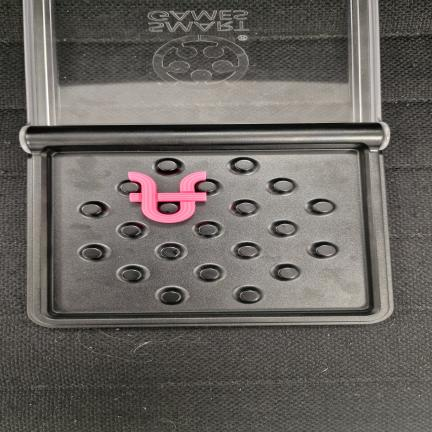G_Pink: (129, 172, 206, 223)
board: (27, 124, 392, 327)
hinge: (23, 127, 386, 152)
pin: (315, 244, 336, 257), (161, 291, 181, 304), (157, 160, 178, 172), (275, 223, 296, 235), (81, 247, 102, 259), (237, 245, 258, 257), (121, 269, 142, 281), (239, 290, 260, 302), (234, 159, 254, 171), (236, 202, 256, 214), (313, 201, 333, 213), (160, 246, 180, 258), (278, 267, 298, 279), (200, 268, 220, 280), (120, 225, 141, 236), (273, 181, 293, 192), (81, 204, 101, 215), (159, 203, 179, 214), (198, 224, 218, 235), (197, 181, 216, 192), (120, 182, 139, 193)
